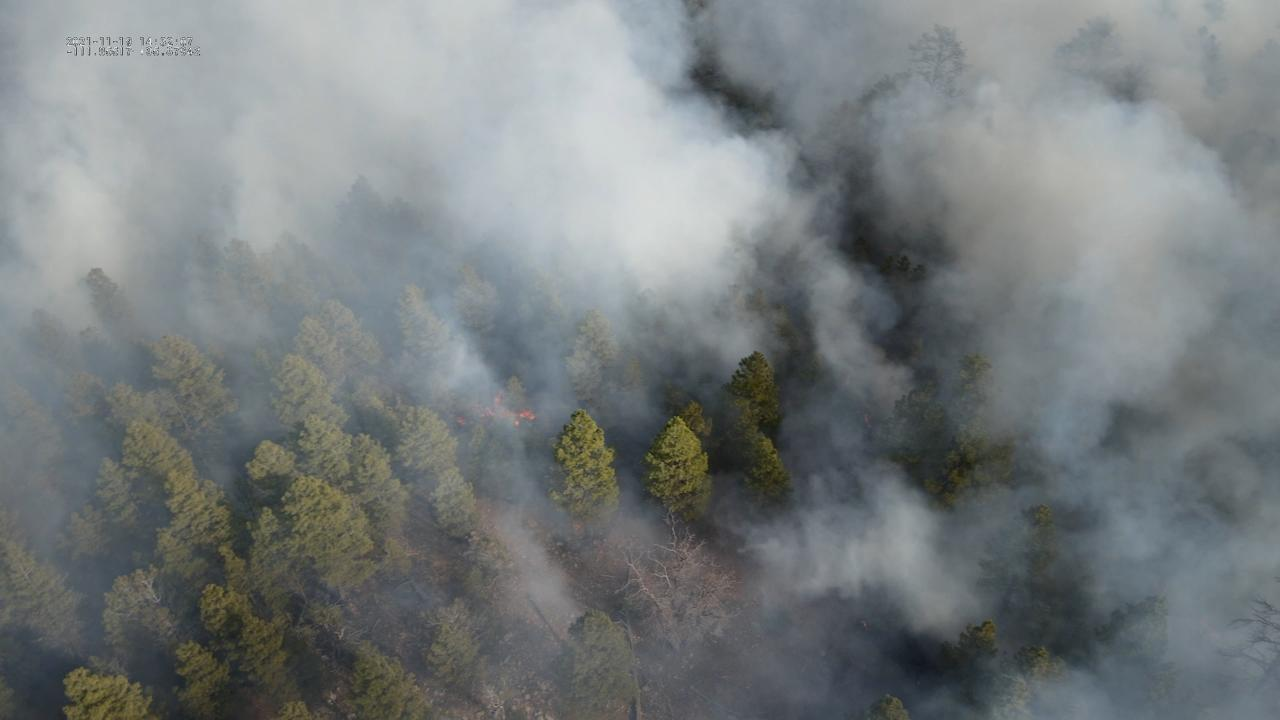fire: (476, 391, 536, 427), (452, 414, 466, 427)
smoke: (0, 0, 1280, 720)
